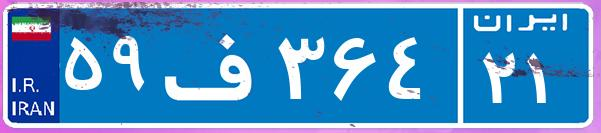1: (525, 38, 570, 115)
2: (475, 38, 525, 113)
3: (273, 28, 330, 110)
4: (385, 28, 445, 110)
5: (57, 26, 110, 107)
6: (330, 28, 385, 110)
9: (110, 28, 158, 105)
ف: (158, 15, 273, 115)
